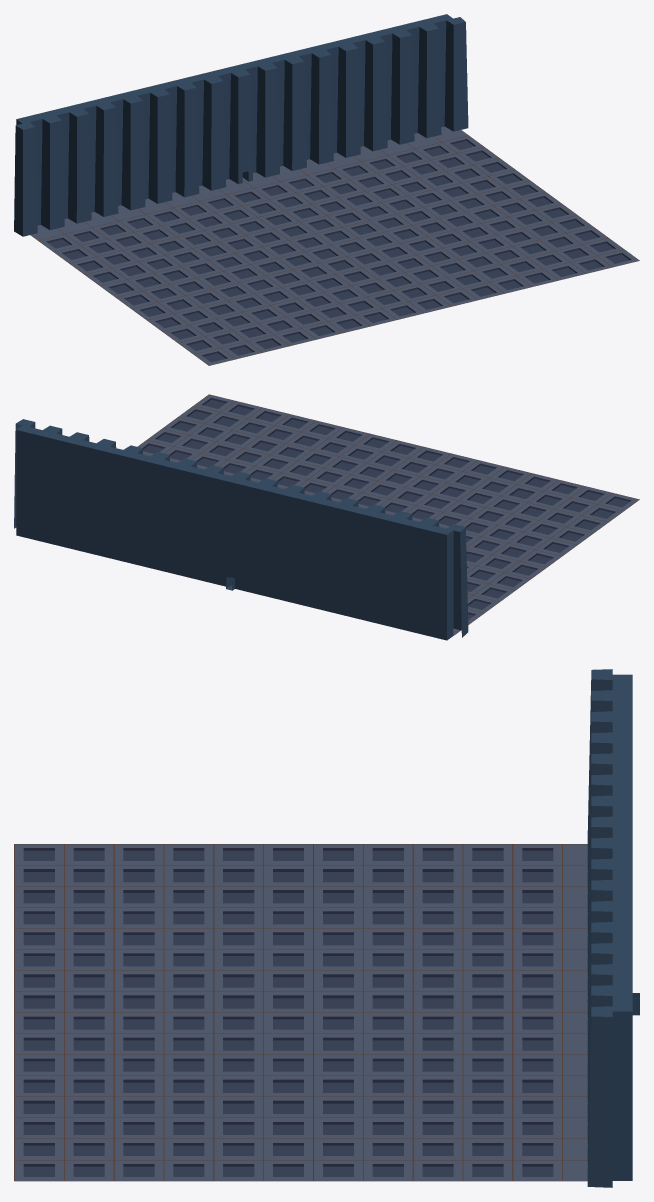
Rendered from outside-arena-scene.glb.
The picture shows the model from 3 angles, top to bottom: view 1: azimuth 30°, elevation 25°; view 2: azimuth 150°, elevation 25°; view 3: azimuth 270°, elevation 25°; orthographic projection. The views are drawn at different scales.
Parts seen in each view (by area): view 1: Apron with recessed square wells, Tall faceted piers and sloping bay sides, Recessed wall backplane with chamfered entrance, Blue central wall face with chamfered doorway; view 2: Recessed wall backplane with chamfered entrance, Apron with recessed square wells, Tall faceted piers and sloping bay sides, Orange cross grid line (×5); view 3: Apron with recessed square wells, Tall faceted piers and sloping bay sides, Recessed wall backplane with chamfered entrance.
Boxes of the visible parts, bbox=[...] form: Apron with recessed square wells: bbox=[31, 126, 638, 365]; Tall faceted piers and sloping bay sides: bbox=[14, 17, 468, 236]; Recessed wall backplane with chamfered entrance: bbox=[16, 14, 452, 225]; Blue central wall face with chamfered doorway: bbox=[238, 74, 252, 183]; Recessed wall backplane with chamfered entrance: bbox=[16, 425, 453, 640]; Apron with recessed square wells: bbox=[138, 394, 638, 635]; Tall faceted piers and sloping bay sides: bbox=[14, 419, 468, 637]; Orange cross grid line (×5): bbox=[147, 394, 639, 544]; Apron with recessed square wells: bbox=[14, 844, 587, 1180]; Tall faceted piers and sloping bay sides: bbox=[587, 669, 612, 1187]; Recessed wall backplane with chamfered entrance: bbox=[612, 674, 632, 1180].
Bounding box in the file's own units: 666 × 152 × 502.
